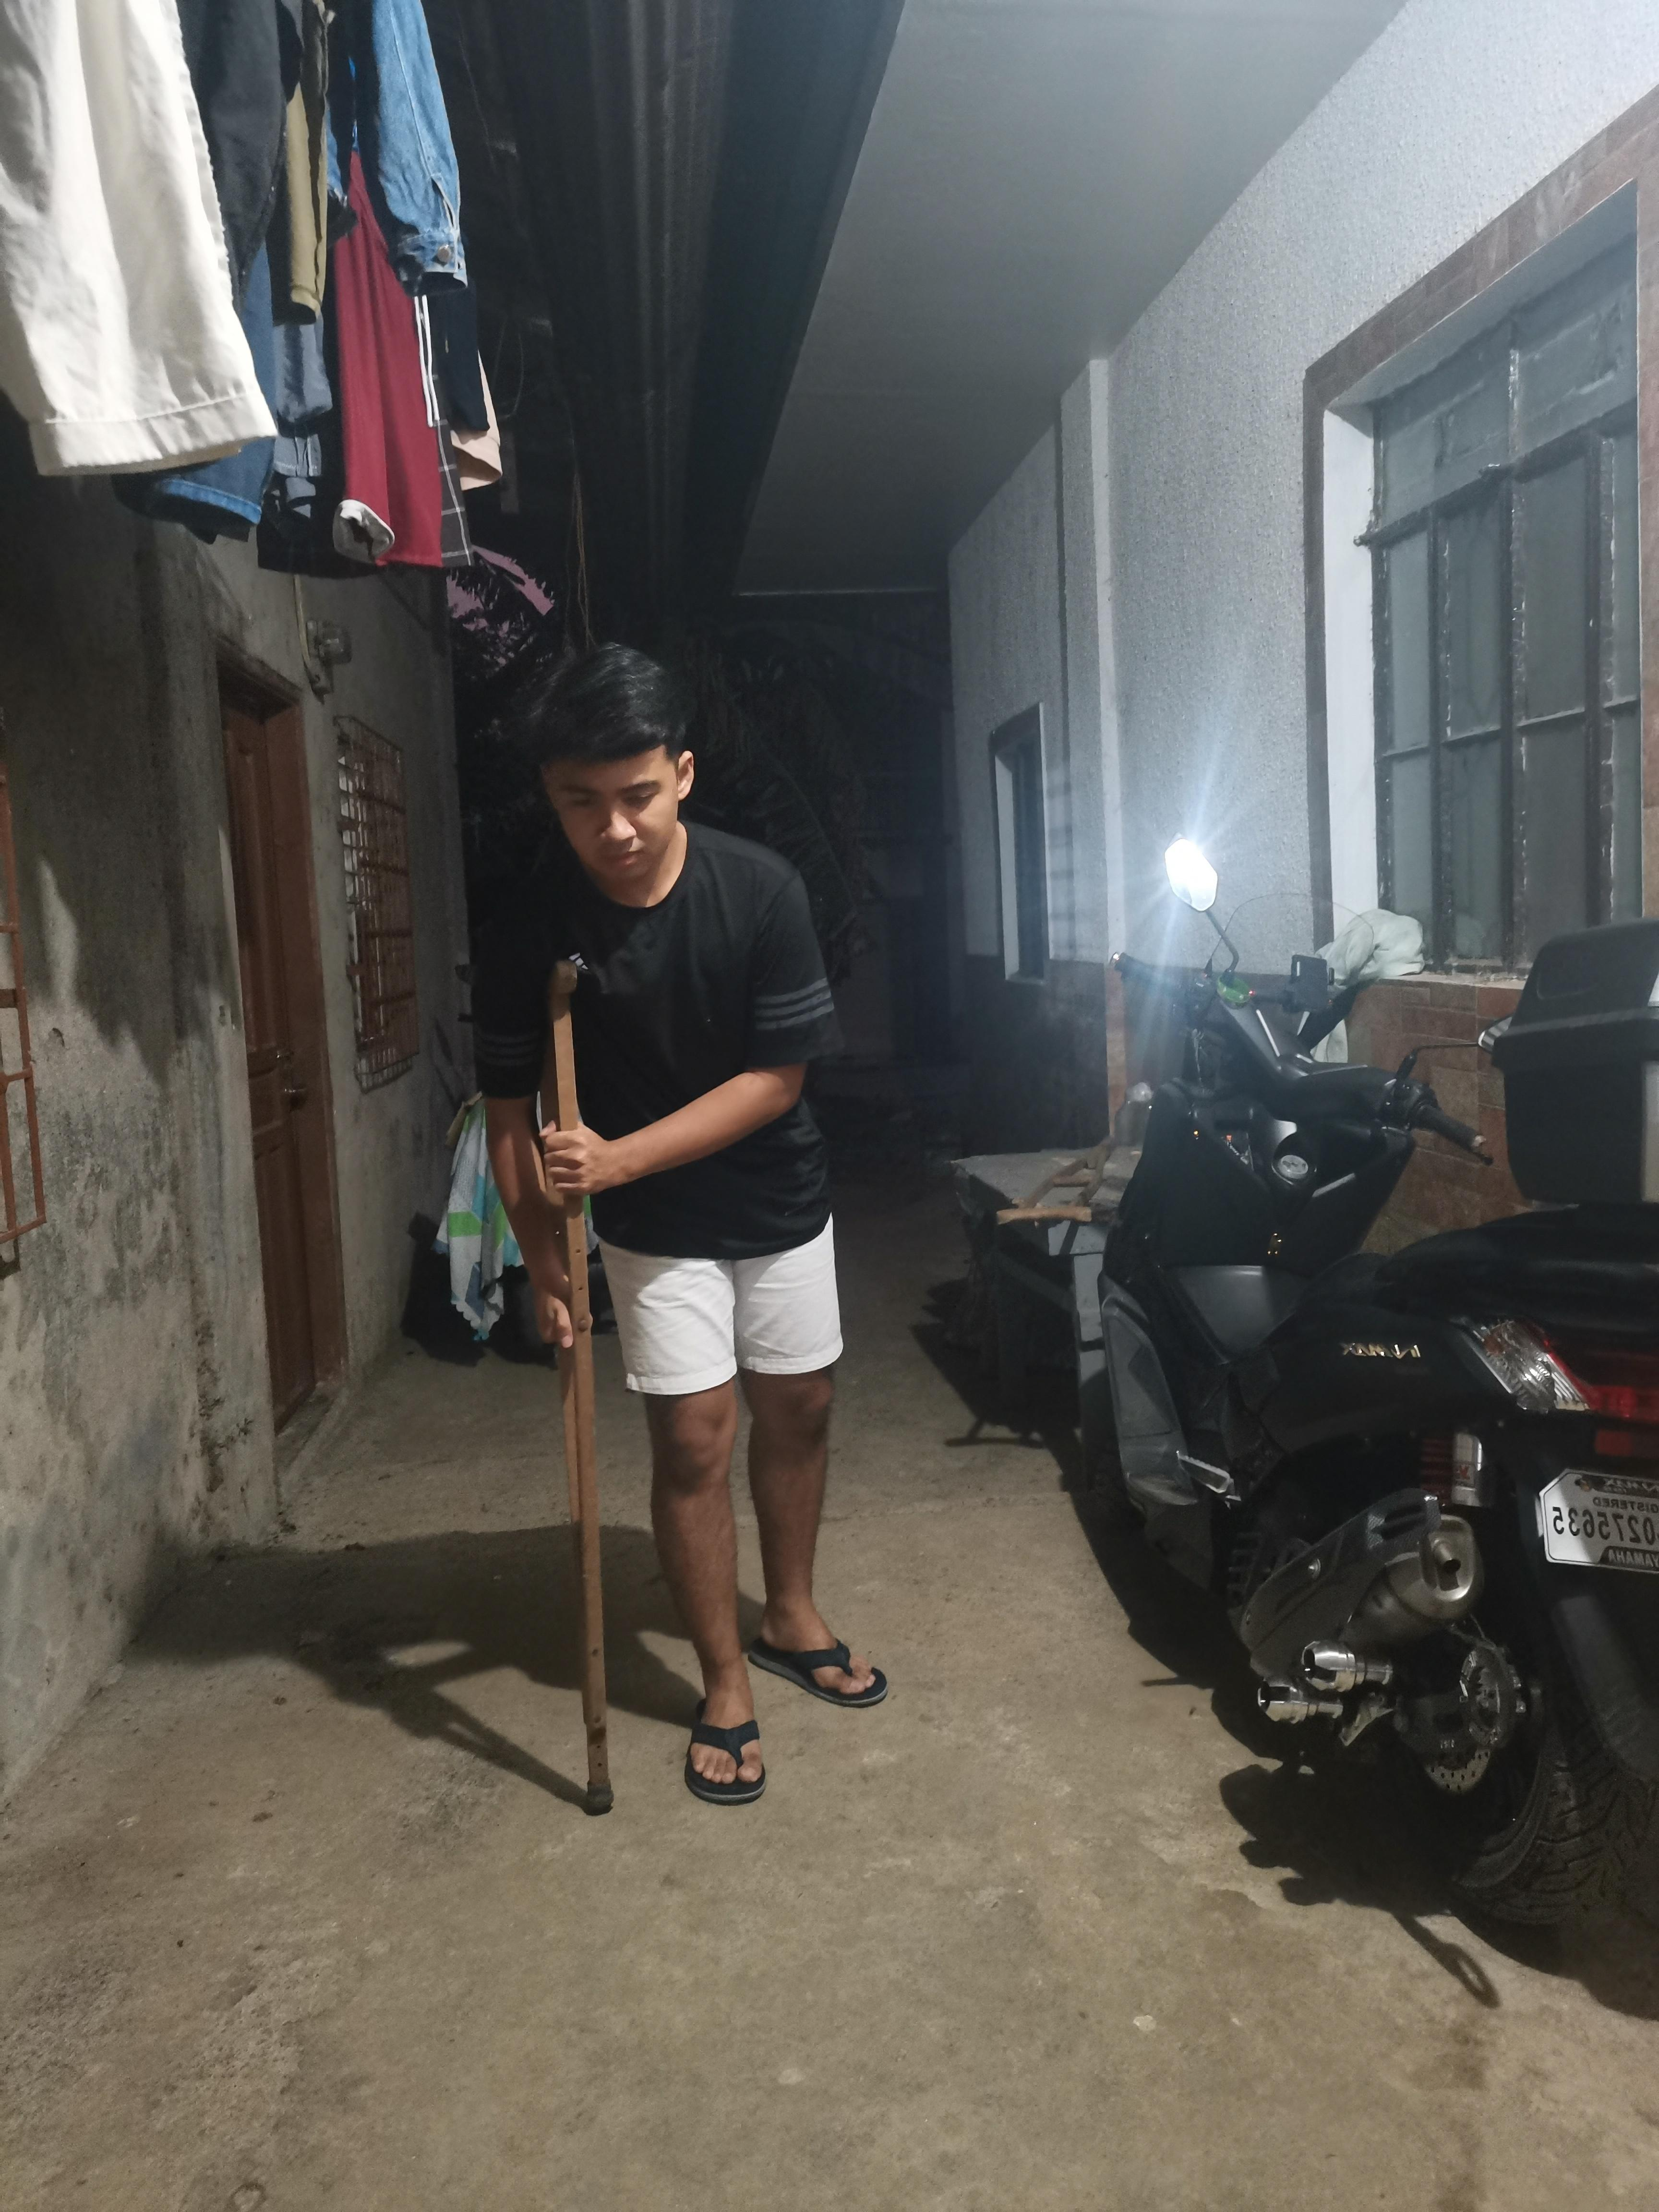crutches: (488, 639, 885, 1810)
